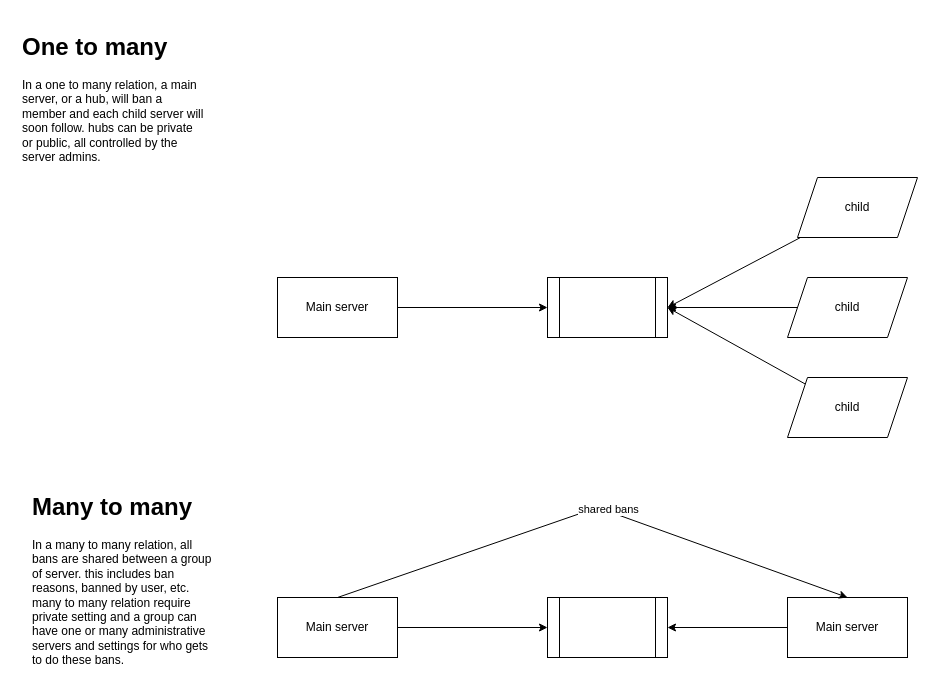
Image size: 935x684. Some labels were removed from this diagram. Here are the shapes that lost their labels. From the top down, the box of each, then its label:
(546, 276, 668, 338): One to many
(546, 596, 668, 658): many to many
